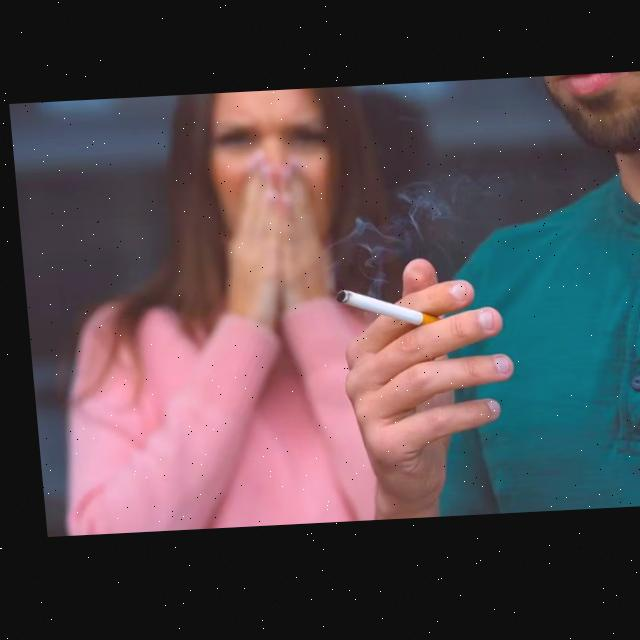cigarette: (329, 289, 434, 334)
